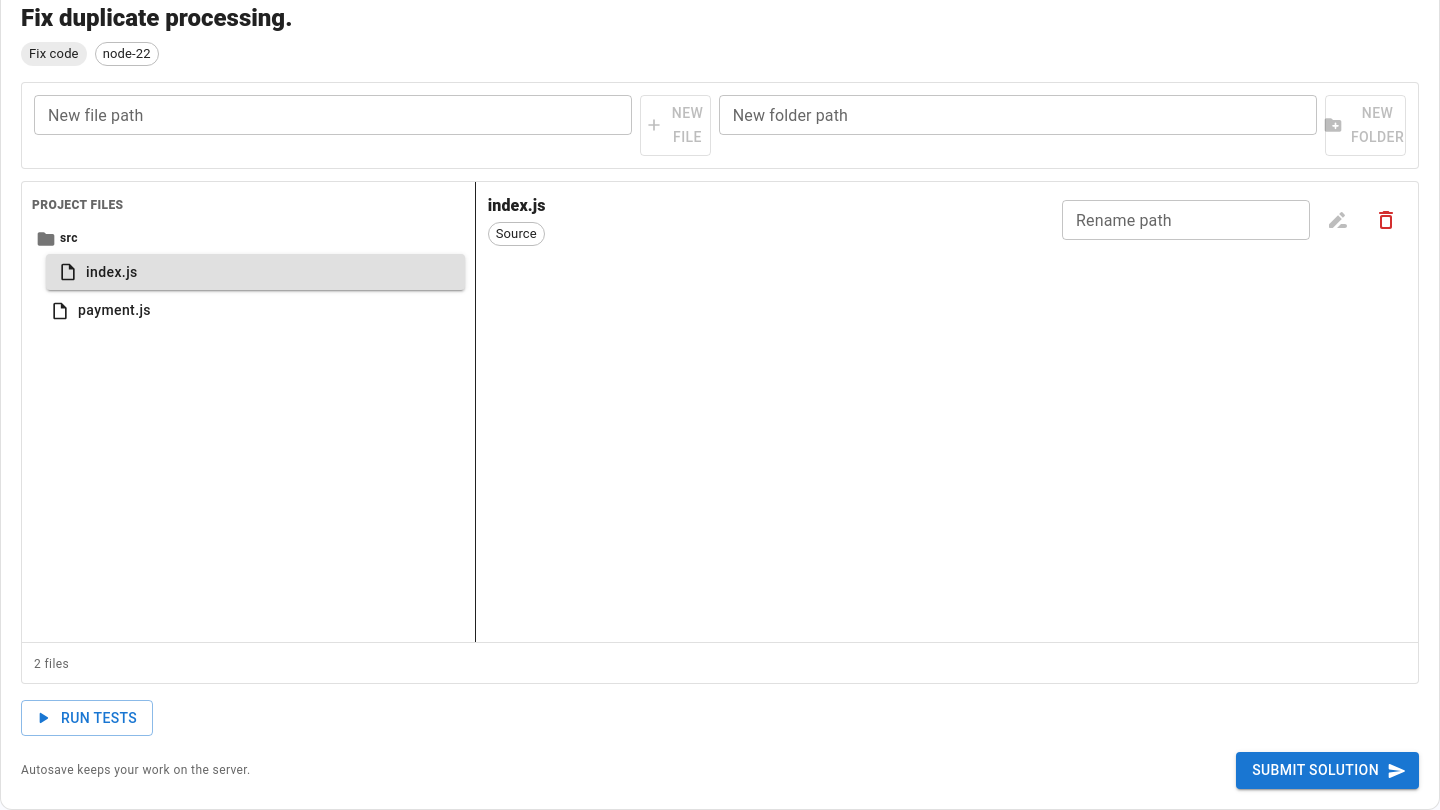
CandidateDebuggingRound › submits code fixes and keeps test implementation details out of the result
(page scrolled)
Expected: the heading "Fix duplicate processing." is shown, [21,4,292,32]
Step 1. Click the button "Submit solution" → (1328, 771), box [1236,752,1419,789]
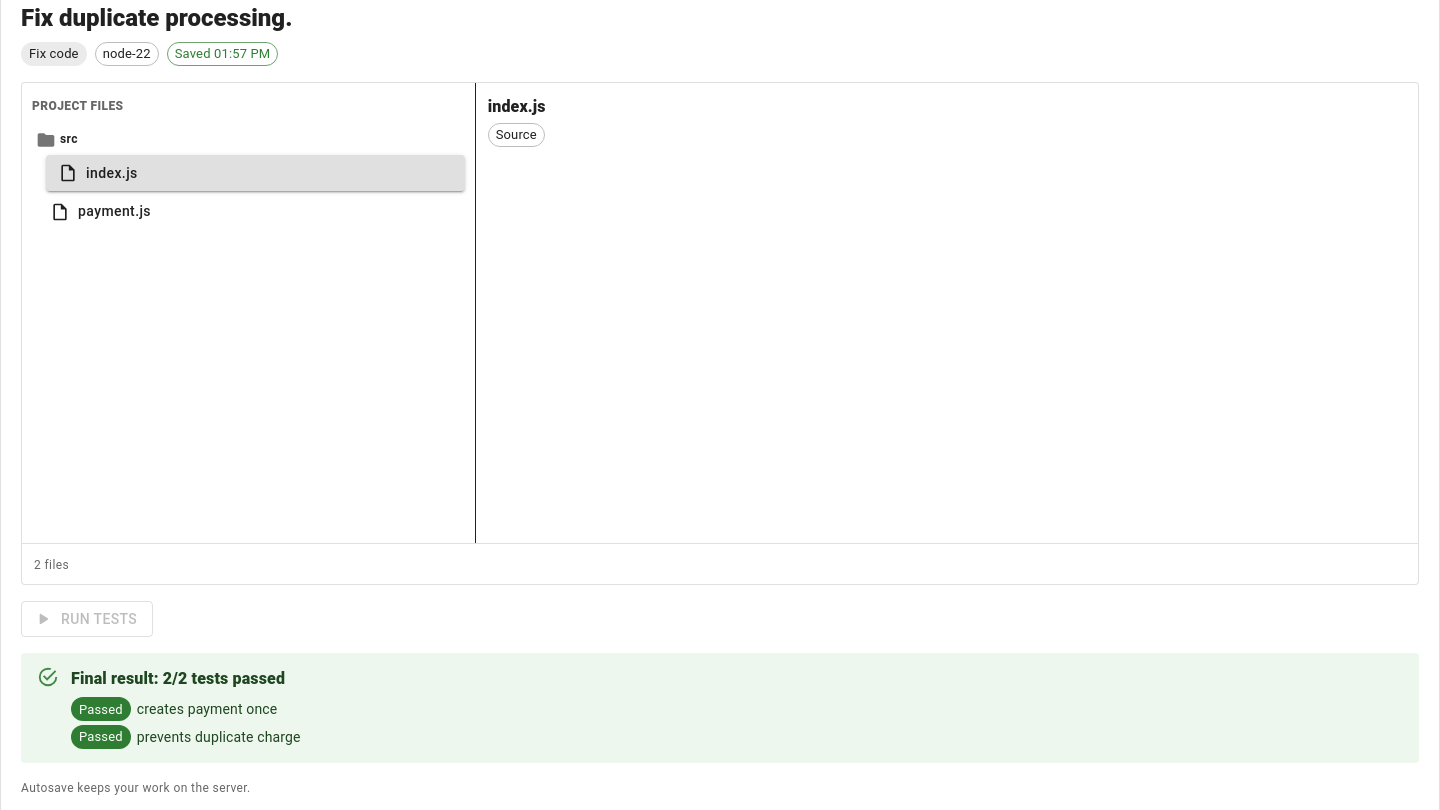
Expected: the text "Final result: 2/2 tests passed" is shown, [71,667,301,691]
